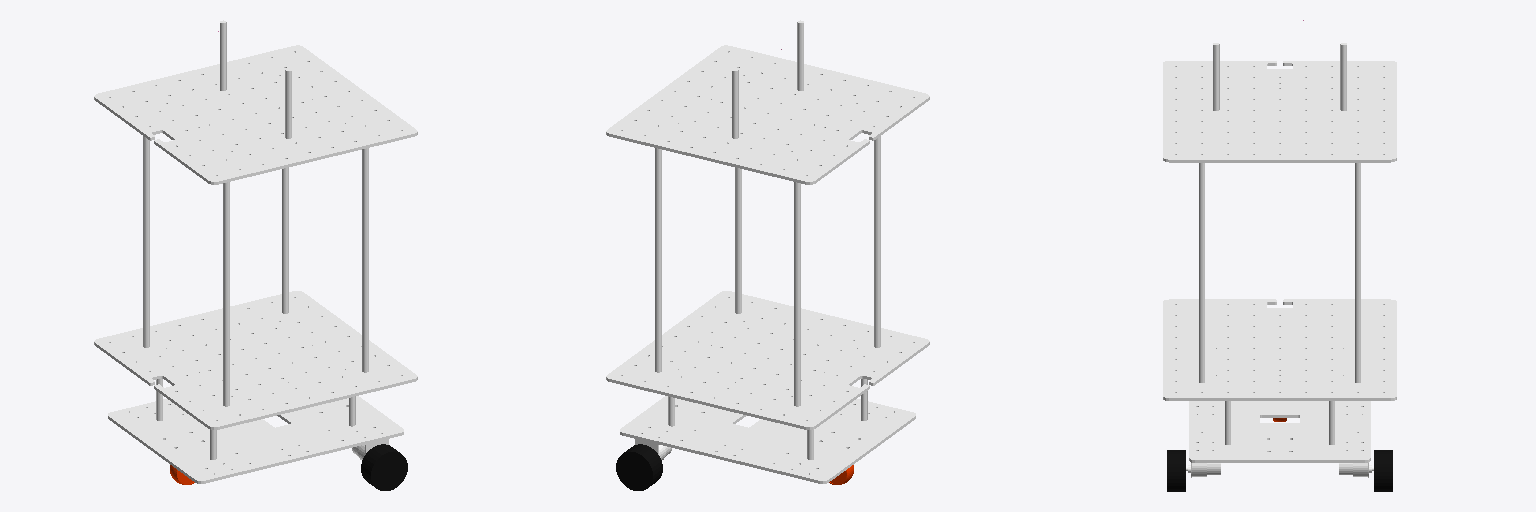
--- What the picture shows (computed from the rendered views, not written in the file) ---
The picture shows the robot from 3 angles, left to right: view 1: azimuth 30°, elevation 25°; view 2: azimuth 150°, elevation 25°; view 3: azimuth 270°, elevation 25°; orthographic projection.
Model kaqi with 24 links and 23 joints (4 continuous, 19 fixed), rooted at base_footprint, posed all joints at 0.
Links seen in each view (by area): view 1: plate1_1_link, plate1_0_link, base_link, right_wheel_link, standoff_40_1_link, standoff_40_3_link, standoff_40_0_link, standoff_40_2_link; view 2: plate1_1_link, plate1_0_link, base_link, left_wheel_link, standoff_40_0_link, standoff_40_2_link, standoff_40_1_link, standoff_40_3_link; view 3: plate1_1_link, plate1_0_link, base_link, standoff_40_2_link, standoff_40_3_link, left_wheel_link, right_wheel_link.
Boxes of the visible links, bbox=[...] form: plate1_1_link: bbox=[94, 45, 417, 184]; plate1_0_link: bbox=[94, 291, 417, 429]; base_link: bbox=[108, 396, 403, 483]; right_wheel_link: bbox=[361, 444, 407, 490]; standoff_40_1_link: bbox=[223, 182, 229, 406]; standoff_40_3_link: bbox=[362, 148, 368, 372]; standoff_40_0_link: bbox=[143, 136, 149, 347]; standoff_40_2_link: bbox=[282, 167, 288, 313]; plate1_1_link: bbox=[606, 45, 929, 184]; plate1_0_link: bbox=[606, 291, 929, 429]; base_link: bbox=[620, 396, 915, 483]; left_wheel_link: bbox=[616, 444, 662, 490]; standoff_40_0_link: bbox=[794, 182, 800, 406]; standoff_40_2_link: bbox=[655, 148, 661, 372]; standoff_40_1_link: bbox=[874, 136, 880, 347]; standoff_40_3_link: bbox=[735, 167, 741, 313]; plate1_1_link: bbox=[1163, 61, 1396, 162]; plate1_0_link: bbox=[1163, 299, 1396, 400]; base_link: bbox=[1186, 401, 1373, 477]; standoff_40_2_link: bbox=[1355, 163, 1360, 382]; standoff_40_3_link: bbox=[1199, 163, 1204, 382]; left_wheel_link: bbox=[1374, 450, 1392, 491]; right_wheel_link: bbox=[1167, 450, 1185, 491].
Size in the robot's own frame: 0.36 by 0.36 by 0.7145 metres.
6 mesh visuals loaded from 6 distinct referenced files (5 binary STL); not drawn: 1 (reference not matched to a file when rendering).

robot.urdf — kaqi:
<?xml version="1.0" ?>
<!-- =================================================================================== -->
<!-- |    This document was autogenerated by xacro from kaqi.urdf.xacro                | -->
<!-- |    EDITING THIS FILE BY HAND IS NOT RECOMMENDED                                 | -->
<!-- =================================================================================== -->
<robot name="kaqi" xmlns:controller="http://playerstage.sourceforge.net/gazebo/xmlschema/#controller" xmlns:interface="http://playerstage.sourceforge.net/gazebo/xmlschema/#interface" xmlns:sensor="http://playerstage.sourceforge.net/gazebo/xmlschema/#sensor" xmlns:xacro="http://ros.org/wiki/xacro">
  <!-- 0.016 -->
  <!-- 0.0 -->
  <material name="black">
    <color rgba="0.0 0.0 0.0 1.0"/>
  </material>
  <material name="blue">
    <color rgba="0.0 0.0 0.8 1.0"/>
  </material>
  <material name="green">
    <color rgba="0.0 0.8 0.0 1.0"/>
  </material>
  <material name="grey">
    <color rgba="0.2 0.2 0.2 1.0"/>
  </material>
  <material name="turquoise">
    <color rgba="0.0 0.8 0.8 1.0"/>
  </material>
  <material name="orange">
    <color rgba="1.0 0.423529411765 0.0392156862745 1.0"/>
  </material>
  <material name="brown">
    <color rgba="0.870588235294 0.811764705882 0.764705882353 1.0"/>
  </material>
  <material name="red">
    <color rgba="0.8 0.0 0.0 1.0"/>
  </material>
  <material name="white">
    <color rgba="1.0 1.0 1.0 1.0"/>
  </material>
  <!-- 0.016 -->
  <!-- 0.0 -->
  <gazebo>
    <plugin filename="libgazebo_ros_imu.so" name="imu_controller">
      <alwaysOn>true</alwaysOn>
      <updateRate>100</updateRate>
      <bodyName>imu_link</bodyName>
      <topicName>imu/data</topicName>
      <gaussianNoise>2.89e-08</gaussianNoise>
      <xyzOffset>0 0 0</xyzOffset>
      <rpyOffset>0 -180.0 0</rpyOffset>
      <serviceName>/default_imu</serviceName>
    </plugin>
  </gazebo>
  <gazebo reference="left_wheel_link">
    <mu1 value="100.0"/>
    <mu2 value="100.0"/>
    <kp value="1000000.0"/>
    <kd value="1.0"/>
    <maxVel value="100.0"/>
    <minDepth value="0.0"/>
    <material>Gazebo/Black</material>
  </gazebo>
  <gazebo reference="right_wheel_link">
    <mu1 value="100.0"/>
    <mu2 value="100.0"/>
    <kp value="1000000.0"/>
    <kd value="1.0"/>
    <maxVel value="100.0"/>
    <minDepth value="0.0"/>
    <material>Gazebo/Black</material>
  </gazebo>
  <gazebo reference="caster_rotate_link">
    <mu1>0.0</mu1>
    <mu2>0.0</mu2>
    <material>Gazebo/Grey</material>
  </gazebo>
  <gazebo reference="caster_wheel_link">
    <mu1>100.0</mu1>
    <mu2>100.0</mu2>
    <material>Gazebo/Orange</material>
  </gazebo>
  <gazebo reference="base_laser_link">
    <material>
      Gazebo/Orange
    </material>
  </gazebo>
  <gazebo>
    <plugin filename="libgazebo_kaqi_base_plugin.so" name="base_controller">
      <node_namespace/>
      <update_rate>100</update_rate>
      <publish_odom_tf>false</publish_odom_tf>
      <publish_wheel_tf_>true</publish_wheel_tf_>
      <publish_wheel_joint_state_>true</publish_wheel_joint_state_>
      <left_wheel_joint>left_wheel_joint</left_wheel_joint>
      <right_wheel_joint>right_wheel_joint</right_wheel_joint>
      <caster_rotate_joint>caster_rotate_joint</caster_rotate_joint>
      <caster_wheel_joint>caster_wheel_joint</caster_wheel_joint>
      <wheel_diameter>0.076</wheel_diameter>
      <wheel_separation>0.34</wheel_separation>
      <wheel_torque>20.0</wheel_torque>
      <wheel_acceleration>2.0</wheel_acceleration>
      <command_topic>/base_controller/command</command_topic>
      <odometry_topic>/odom</odometry_topic>
      <odom_frame>odom</odom_frame>
      <base_frame>base_footprint</base_frame>
    </plugin>
  </gazebo>
  <gazebo reference="head_kinect_link">
    <sensor name="head_kinect_sensor" type="depth">
      <always_on>true</always_on>
      <update_rate>20.0</update_rate>
      <camera>
        <horizontal_fov>0.994837673637</horizontal_fov>
        <image>
          <format>B8G8R8</format>
          <width>640</width>
          <height>480</height>
        </image>
        <clip>
          <near>0.05</near>
          <far>10</far>
        </clip>
      </camera>
      <plugin filename="libgazebo_ros_openni_kinect.so" name="head_kinect_controller">
        <alwaysOn>true</alwaysOn>
        <updateRate>20.0</updateRate>
        <robotNamespace>/</robotNamespace>
        <cameraName>head_kinect</cameraName>
        <imageTopicName>/head_kinect/rgb/image_raw</imageTopicName>
        <cameraInfoTopicName>/head_kinect/rgb/camera_info</cameraInfoTopicName>
        <depthImageTopicName>/head_kinect/depth/image_raw</depthImageTopicName>
        <depthImageCameraInfoTopicName>/head_kinect/depth/camera_info</depthImageCameraInfoTopicName>
        <pointCloudTopicName>/head_kinect/depth_registered/points</pointCloudTopicName>
        <frameName>head_kinect_optical_frame</frameName>
        <pointCloudCutoff>0.5</pointCloudCutoff>
        <pointCloudCutoffMax>6.0</pointCloudCutoffMax>
        <distortionK1>0.00000001</distortionK1>
        <distortionK2>0.00000001</distortionK2>
        <distortionK3>0.00000001</distortionK3>
        <distortionT1>0.00000001</distortionT1>
        <distortionT2>0.00000001</distortionT2>
        <CxPrime>0</CxPrime>
        <Cx>0</Cx>
        <Cy>0</Cy>
        <focalLength>0</focalLength>
        <hackBaseline>0</hackBaseline>
      </plugin>
    </sensor>
  </gazebo>
  <gazebo reference="base_laser_frame">
    <sensor name="base_laser_sensor" type="ray">
      <always_on>true</always_on>
      <update_rate>30</update_rate>
      <pose>0 0 0 0 0 0</pose>
      <visualize>false</visualize>
      <ray>
        <scan>
          <horizontal>
            <samples>1080</samples>
            <resolution>1</resolution>
            <min_angle>-2.35619449</min_angle>
            <max_angle>2.35619449</max_angle>
          </horizontal>
        </scan>
        <range>
          <min>0.08</min>
          <max>30.0</max>
          <resolution>0.01</resolution>
        </range>
      </ray>
      <plugin filename="libgazebo_ros_laser.so" name="gazebo_ros_base_laser_controller">
        <robotNamespace>/</robotNamespace>
        <gaussianNoise>0.005</gaussianNoise>
        <alwaysOn>true</alwaysOn>
        <updateRate>30</updateRate>
        <topicName>base_scan</topicName>
        <frameName>base_laser_frame</frameName>
        <hokuyoMinIntensity>101</hokuyoMinIntensity>
      </plugin>
    </sensor>
  </gazebo>
  <!-- 0.016 -->
  <!-- 0.0 -->
  <!-- len: cm -->
  <link name="base_footprint">
    </link>
  <joint name="base_footprint_joint" type="fixed">
    <origin rpy="0 0 0" xyz="0 0 0.068"/>
    <parent link="base_footprint"/>
    <child link="base_link"/>
  </joint>
  <link name="base_link">
    <inertial>
      <origin rpy="0 0 0" xyz="0 0 0"/>
      <mass value="0.59157"/>
      <inertia ixx="0.1" ixy="0" ixz="0" iyy="0.1" iyz="0" izz="0.1"/>
    </inertial>
    <visual>
      <origin rpy="1.57079632679 0 -1.57079632679" xyz="-0.13 0 0"/>
      <geometry>
        <mesh filename="package://kaqi_description/meshes/base_link.stl"/>
      </geometry>
      <material name="">
        <color rgba="1 1 1 0.5"/>
      </material>
    </visual>
    <collision>
      <origin rpy="0 0 0" xyz="-0.13 0 0.0025"/>
      <geometry>
        <box size=".32 .28 .005"/>
      </geometry>
    </collision>
  </link>
  <joint name="left_wheel_joint" type="continuous">
    <origin rpy="0 0 0" xyz="0 0.15923 -0.0359"/>
    <axis xyz="0 1 0"/>
    <parent link="base_link"/>
    <child link="left_wheel_link"/>
    <limit effort="60.5" velocity="100"/>
    <safety_controller k_velocity="10"/>
    <calibration rising="0"/>
    <dynamics damping="1.0" friction="0.0"/>
  </joint>
  <link name="left_wheel_link">
    <inertial>
      <origin rpy="0 0 0" xyz="0 0 0"/>
      <mass value="0.15556"/>
      <inertia ixx="0.001" ixy="0" ixz="0" iyy="0.001" iyz="0" izz="0.001"/>
    </inertial>
    <visual>
      <origin rpy="1.57079632679 0 0" xyz="0 0 0"/>
      <geometry>
        <cylinder length="0.030" radius="0.0321"/>
      </geometry>
      <material name="">
        <color rgba="0.1 0.1 0.1 1"/>
      </material>
    </visual>
    <collision>
      <origin rpy="1.57079632679 0 0" xyz="0 0 0"/>
      <geometry>
        <cylinder length="0.030" radius="0.0321"/>
      </geometry>
    </collision>
  </link>
  <joint name="right_wheel_joint" type="continuous">
    <origin rpy="0 0 0" xyz="0 -0.15923 -0.0359"/>
    <axis xyz="0 1 0"/>
    <parent link="base_link"/>
    <child link="right_wheel_link"/>
    <limit effort="60.5" velocity="100"/>
    <safety_controller k_velocity="10"/>
    <calibration rising="0"/>
    <dynamics damping="1.0" friction="0.0"/>
  </joint>
  <link name="right_wheel_link">
    <inertial>
      <origin rpy="0 0 0" xyz="0 0 0"/>
      <mass value="0.15556"/>
      <inertia ixx="0.001" ixy="0" ixz="0" iyy="0.001" iyz="0" izz="0.001"/>
    </inertial>
    <visual>
      <origin rpy="1.57079632679 0 0" xyz="0 0 0"/>
      <geometry>
        <cylinder length="0.030" radius="0.0321"/>
      </geometry>
      <material name="">
        <color rgba="0.1 0.1 0.1 1"/>
      </material>
    </visual>
    <collision>
      <origin rpy="1.57079632679 0 0" xyz="0 0 0"/>
      <geometry>
        <cylinder length="0.030" radius="0.0321"/>
      </geometry>
    </collision>
  </link>
  <!-- Caster -->
  <joint name="caster_base_joint" type="fixed">
    <origin rpy="0 0 0" xyz="-0.23 0 0.003"/>
    <parent link="base_link"/>
    <child link="caster_base_link"/>
  </joint>
  <link name="caster_base_link">
    <inertial>
      <origin rpy="0 0 0" xyz="0 0 0"/>
      <mass value="0.016939"/>
      <inertia ixx="0.001" ixy="0" ixz="0" iyy="0.001" iyz="0" izz="0.001"/>
    </inertial>
    <visual>
      <origin rpy="1.57079632679 0 0" xyz="0 0 -0.001"/>
      <geometry>
        <mesh filename="package://kaqi_description/meshes/caster_base.stl"/>
      </geometry>
      <material name="">
        <color rgba="1 1 1 1"/>
      </material>
    </visual>
    <collision>
      <origin rpy="0 0 0" xyz="0 0 0.003"/>
      <geometry>
        <box size=".055 .046 .006"/>
      </geometry>
    </collision>
  </link>
  <joint name="caster_rotate_joint" type="continuous">
    <origin rpy="0 0 0" xyz="0.0 0.0 -0.006"/>
    <axis xyz="0 0 1"/>
    <parent link="caster_base_link"/>
    <child link="caster_rotate_link"/>
  </joint>
  <link name="caster_rotate_link">
    <inertial>
      <origin rpy="0 0 0" xyz="0 0 0.015"/>
      <mass value="0.0043659"/>
      <inertia ixx="0.0001" ixy="0" ixz="0" iyy="0.0001" iyz="0" izz="0.0001"/>
    </inertial>
    <visual>
      <origin rpy="-1.57079632679 0 0" xyz="0 0 0"/>
      <geometry>
        <mesh filename="package://kaqi_description/meshes/caster_rotate.stl"/>
      </geometry>
      <material name="">
        <color rgba="0.3 0.3 0.3 1"/>
      </material>
    </visual>
    <!--
    <collision>
      <origin xyz="0 0 0" rpy="${-M_PI/2.0} 0 0" />
      <geometry>
        <mesh filename="package://kaqi_description/meshes/caster_rotate.stl" />
      </geometry>
    </collision>
    -->
  </link>
  <joint name="caster_wheel_joint" type="continuous">
    <origin rpy="0 0 0" xyz="-0.02 0.0 -0.04"/>
    <axis xyz="0 1 0"/>
    <parent link="caster_rotate_link"/>
    <child link="caster_wheel_link"/>
  </joint>
  <link name="caster_wheel_link">
    <inertial>
      <origin rpy="0 0 0" xyz="0 0 0"/>
      <mass value="0.037975"/>
      <inertia ixx="0.001" ixy="0" ixz="0" iyy="0.001" iyz="0" izz="0.001"/>
    </inertial>
    <visual>
      <origin rpy="1.57079632679 0 0" xyz="0 0 0"/>
      <geometry>
        <mesh filename="package://kaqi_description/meshes/caster_wheel.stl"/>
      </geometry>
      <material name="">
        <color rgba="1.0 0.27 0 1"/>
      </material>
    </visual>
    <collision>
      <origin rpy="1.57079632679 0 0" xyz="0 0 0"/>
      <geometry>
        <cylinder length="0.011" radius="0.025"/>
      </geometry>
    </collision>
  </link>
  <!-- Stacks -->
  <joint name="standoff_10_0_joint" type="fixed">
    <origin rpy="0 0 0" xyz="-0.01 -0.08 0.005"/>
    <parent link="base_link"/>
    <child link="standoff_10_0_link"/>
  </joint>
  <link name="standoff_10_0_link">
    <inertial>
      <mass value="0.01"/>
      <origin xyz="0 0 0"/>
      <inertia ixx="0.001" ixy="0.0" ixz="0.0" iyy="0.001" iyz="0.0" izz="0.001"/>
    </inertial>
    <visual>
      <origin rpy="0 0 0" xyz="0 0 0.05"/>
      <geometry>
        <cylinder length="0.1" radius="0.005"/>
      </geometry>
      <material name="">
        <color rgba="1 1 1 1"/>
      </material>
    </visual>
    <collision>
      <origin rpy="0 0 0" xyz="0 0 0.05"/>
      <geometry>
        <cylinder length="0.1" radius="0.005"/>
      </geometry>
    </collision>
  </link>
  <joint name="standoff_10_1_joint" type="fixed">
    <origin rpy="0 0 0" xyz="-0.01 0.08 0.005"/>
    <parent link="base_link"/>
    <child link="standoff_10_1_link"/>
  </joint>
  <link name="standoff_10_1_link">
    <inertial>
      <mass value="0.01"/>
      <origin xyz="0 0 0"/>
      <inertia ixx="0.001" ixy="0.0" ixz="0.0" iyy="0.001" iyz="0.0" izz="0.001"/>
    </inertial>
    <visual>
      <origin rpy="0 0 0" xyz="0 0 0.05"/>
      <geometry>
        <cylinder length="0.1" radius="0.005"/>
      </geometry>
      <material name="">
        <color rgba="1 1 1 1"/>
      </material>
    </visual>
    <collision>
      <origin rpy="0 0 0" xyz="0 0 0.05"/>
      <geometry>
        <cylinder length="0.1" radius="0.005"/>
      </geometry>
    </collision>
  </link>
  <joint name="standoff_10_2_joint" type="fixed">
    <origin rpy="0 0 0" xyz="-0.25 0.08 0.005"/>
    <parent link="base_link"/>
    <child link="standoff_10_2_link"/>
  </joint>
  <link name="standoff_10_2_link">
    <inertial>
      <mass value="0.01"/>
      <origin xyz="0 0 0"/>
      <inertia ixx="0.001" ixy="0.0" ixz="0.0" iyy="0.001" iyz="0.0" izz="0.001"/>
    </inertial>
    <visual>
      <origin rpy="0 0 0" xyz="0 0 0.05"/>
      <geometry>
        <cylinder length="0.1" radius="0.005"/>
      </geometry>
      <material name="">
        <color rgba="1 1 1 1"/>
      </material>
    </visual>
    <collision>
      <origin rpy="0 0 0" xyz="0 0 0.05"/>
      <geometry>
        <cylinder length="0.1" radius="0.005"/>
      </geometry>
    </collision>
  </link>
  <joint name="standoff_10_3_joint" type="fixed">
    <origin rpy="0 0 0" xyz="-0.25 -0.08 0.005"/>
    <parent link="base_link"/>
    <child link="standoff_10_3_link"/>
  </joint>
  <link name="standoff_10_3_link">
    <inertial>
      <mass value="0.01"/>
      <origin xyz="0 0 0"/>
      <inertia ixx="0.001" ixy="0.0" ixz="0.0" iyy="0.001" iyz="0.0" izz="0.001"/>
    </inertial>
    <visual>
      <origin rpy="0 0 0" xyz="0 0 0.05"/>
      <geometry>
        <cylinder length="0.1" radius="0.005"/>
      </geometry>
      <material name="">
        <color rgba="1 1 1 1"/>
      </material>
    </visual>
    <collision>
      <origin rpy="0 0 0" xyz="0 0 0.05"/>
      <geometry>
        <cylinder length="0.1" radius="0.005"/>
      </geometry>
    </collision>
  </link>
  <joint name="plate1_0_joint" type="fixed">
    <origin rpy="0 0 0" xyz="-0.13 0 0.105"/>
    <parent link="base_link"/>
    <child link="plate1_0_link"/>
  </joint>
  <link name="plate1_0_link">
    <inertial>
      <mass value="0.01"/>
      <origin xyz="0 0 0"/>
      <inertia ixx="0.001" ixy="0.0" ixz="0.0" iyy="0.001" iyz="0.0" izz="0.001"/>
    </inertial>
    <visual>
      <origin rpy="1.57079632679 0 -1.57079632679" xyz="0 0 0.0"/>
      <geometry>
        <mesh filename="package://kaqi_description/meshes/plate1.stl"/>
      </geometry>
      <material name="">
        <color rgba="1 1 1 0.5"/>
        <ambient>1 1 1 0.5</ambient>
        <diffuse>1 1 1 0.5</diffuse>
        <specular>0.1 0.1 0.1 128</specular>
        <emissive>0 0 0 0</emissive>
      </material>
    </visual>
    <collision>
      <origin rpy="0 0 0" xyz="0 0 0.0025"/>
      <geometry>
        <box size=".36 .36 .005"/>
      </geometry>
    </collision>
  </link>
  <joint name="standoff_40_0_joint" type="fixed">
    <origin rpy="0 0 0" xyz="-0.12 0.12 0.005"/>
    <parent link="plate1_0_link"/>
    <child link="standoff_40_0_link"/>
  </joint>
  <link name="standoff_40_0_link">
    <inertial>
      <mass value="0.01"/>
      <origin xyz="0 0 0"/>
      <inertia ixx="0.001" ixy="0.0" ixz="0.0" iyy="0.001" iyz="0.0" izz="0.001"/>
    </inertial>
    <visual>
      <origin rpy="0 0 0" xyz="0 0 0.2"/>
      <geometry>
        <cylinder length="0.4" radius="0.005"/>
      </geometry>
      <material name="">
        <color rgba="1 1 1 1"/>
      </material>
    </visual>
    <collision>
      <origin rpy="0 0 0" xyz="0 0 0.2"/>
      <geometry>
        <cylinder length="0.4" radius="0.005"/>
      </geometry>
    </collision>
  </link>
  <joint name="standoff_40_1_joint" type="fixed">
    <origin rpy="0 0 0" xyz="-0.12 -0.12 0.005"/>
    <parent link="plate1_0_link"/>
    <child link="standoff_40_1_link"/>
  </joint>
  <link name="standoff_40_1_link">
    <inertial>
      <mass value="0.01"/>
      <origin xyz="0 0 0"/>
      <inertia ixx="0.001" ixy="0.0" ixz="0.0" iyy="0.001" iyz="0.0" izz="0.001"/>
    </inertial>
    <visual>
      <origin rpy="0 0 0" xyz="0 0 0.2"/>
      <geometry>
        <cylinder length="0.4" radius="0.005"/>
      </geometry>
      <material name="">
        <color rgba="1 1 1 1"/>
      </material>
    </visual>
    <collision>
      <origin rpy="0 0 0" xyz="0 0 0.2"/>
      <geometry>
        <cylinder length="0.4" radius="0.005"/>
      </geometry>
    </collision>
  </link>
  <joint name="standoff_40_2_joint" type="fixed">
    <origin rpy="0 0 0" xyz="0.12 0.12 0.005"/>
    <parent link="plate1_0_link"/>
    <child link="standoff_40_2_link"/>
  </joint>
  <link name="standoff_40_2_link">
    <inertial>
      <mass value="0.01"/>
      <origin xyz="0 0 0"/>
      <inertia ixx="0.001" ixy="0.0" ixz="0.0" iyy="0.001" iyz="0.0" izz="0.001"/>
    </inertial>
    <visual>
      <origin rpy="0 0 0" xyz="0 0 0.2"/>
      <geometry>
        <cylinder length="0.4" radius="0.005"/>
      </geometry>
      <material name="">
        <color rgba="1 1 1 1"/>
      </material>
    </visual>
    <collision>
      <origin rpy="0 0 0" xyz="0 0 0.2"/>
      <geometry>
        <cylinder length="0.4" radius="0.005"/>
      </geometry>
    </collision>
  </link>
  <joint name="standoff_40_3_joint" type="fixed">
    <origin rpy="0 0 0" xyz="0.12 -0.12 0.005"/>
    <parent link="plate1_0_link"/>
    <child link="standoff_40_3_link"/>
  </joint>
  <link name="standoff_40_3_link">
    <inertial>
      <mass value="0.01"/>
      <origin xyz="0 0 0"/>
      <inertia ixx="0.001" ixy="0.0" ixz="0.0" iyy="0.001" iyz="0.0" izz="0.001"/>
    </inertial>
    <visual>
      <origin rpy="0 0 0" xyz="0 0 0.2"/>
      <geometry>
        <cylinder length="0.4" radius="0.005"/>
      </geometry>
      <material name="">
        <color rgba="1 1 1 1"/>
      </material>
    </visual>
    <collision>
      <origin rpy="0 0 0" xyz="0 0 0.2"/>
      <geometry>
        <cylinder length="0.4" radius="0.005"/>
      </geometry>
    </collision>
  </link>
  <joint name="plate1_1_joint" type="fixed">
    <origin rpy="0 0 0" xyz="0 0 0.405"/>
    <parent link="plate1_0_link"/>
    <child link="plate1_1_link"/>
  </joint>
  <link name="plate1_1_link">
    <inertial>
      <mass value="0.01"/>
      <origin xyz="0 0 0"/>
      <inertia ixx="0.001" ixy="0.0" ixz="0.0" iyy="0.001" iyz="0.0" izz="0.001"/>
    </inertial>
    <visual>
      <origin rpy="1.57079632679 0 -1.57079632679" xyz="0 0 0.0"/>
      <geometry>
        <mesh filename="package://kaqi_description/meshes/plate1.stl"/>
      </geometry>
      <material name="">
        <color rgba="1 1 1 0.5"/>
        <ambient>1 1 1 0.5</ambient>
        <diffuse>1 1 1 0.5</diffuse>
        <specular>0.1 0.1 0.1 128</specular>
        <emissive>0 0 0 0</emissive>
      </material>
    </visual>
    <collision>
      <origin rpy="0 0 0" xyz="0 0 0.0025"/>
      <geometry>
        <box size=".36 .36 .005"/>
      </geometry>
    </collision>
  </link>
  <joint name="standoff_kinect_0_joint" type="fixed">
    <origin rpy="0 0 0" xyz="0 0.098 0.005"/>
    <parent link="plate1_1_link"/>
    <child link="standoff_kinect_0_link"/>
  </joint>
  <link name="standoff_kinect_0_link">
    <inertial>
      <mass value="0.001"/>
      <origin xyz="0 0 0"/>
      <inertia ixx="0.0001" ixy="0.0" ixz="0.0" iyy="0.0001" iyz="0.0" izz="0.0001"/>
    </inertial>
    <visual>
      <origin rpy="0 0 0" xyz="0 0 0.056"/>
      <geometry>
        <cylinder length="0.112" radius="0.005"/>
      </geometry>
      <material name="">
        <color rgba="1 1 1 1"/>
      </material>
    </visual>
    <collision>
      <origin rpy="0 0 0" xyz="0 0 0.056"/>
      <geometry>
        <cylinder length="0.112" radius="0.005"/>
      </geometry>
    </collision>
  </link>
  <joint name="standoff_kinect_1_joint" type="fixed">
    <origin rpy="0 0 0" xyz="0 -0.098 0.005"/>
    <parent link="plate1_1_link"/>
    <child link="standoff_kinect_1_link"/>
  </joint>
  <link name="standoff_kinect_1_link">
    <inertial>
      <mass value="0.001"/>
      <origin xyz="0 0 0"/>
      <inertia ixx="0.0001" ixy="0.0" ixz="0.0" iyy="0.0001" iyz="0.0" izz="0.0001"/>
    </inertial>
    <visual>
      <origin rpy="0 0 0" xyz="0 0 0.056"/>
      <geometry>
        <cylinder length="0.112" radius="0.005"/>
      </geometry>
      <material name="">
        <color rgba="1 1 1 1"/>
      </material>
    </visual>
    <collision>
      <origin rpy="0 0 0" xyz="0 0 0.056"/>
      <geometry>
        <cylinder length="0.112" radius="0.005"/>
      </geometry>
    </collision>
  </link>
  <!-- Sensors -->
  <!-- Gyro -->
  <joint name="gyro_joint" type="fixed">
    <axis xyz="0 1 0"/>
    <origin rpy="0 0 0" xyz="0 0 0.02"/>
    <parent link="base_link"/>
    <child link="gyro_link"/>
  </joint>
  <link name="gyro_link">
    <inertial>
      <mass value="0.001"/>
      <origin rpy="0 0 0" xyz="0 0 0"/>
      <inertia ixx="0.0001" ixy="0" ixz="0" iyy="0.000001" iyz="0" izz="0.0001"/>
    </inertial>
  </link>
  <!-- IMU -->
  <joint name="imu_joint" type="fixed">
    <axis xyz="0 1 0"/>
    <origin rpy="0 3.14159265359 0" xyz="0 0 0.07"/>
    <parent link="base_link"/>
    <child link="imu_link"/>
  </joint>
  <link name="imu_link">
    <inertial>
      <mass value="0.001"/>
      <origin rpy="0 0 0" xyz="0 0 0"/>
      <inertia ixx="0.0001" ixy="0" ixz="0" iyy="0.000001" iyz="0" izz="0.0001"/>
    </inertial>
  </link>
  <!-- kinect -->
  <joint name="head_kinect_joint" type="fixed">
    <origin rpy="0 0 0" xyz="-0.014 0.036 0.136"/>
    <parent link="plate1_1_link"/>
    <child link="head_kinect_link"/>
  </joint>
  <link name="head_kinect_link">
    <inertial>
      <mass value="0.1"/>
      <origin xyz="0 0 0"/>
      <inertia ixx="0.01" ixy="0" ixz="0" iyy="0.01" iyz="0" izz="0.01"/>
    </inertial>
    <visual>
      <origin rpy="0 0 0" xyz="0.034 -0.036 0"/>
      <geometry>
        <mesh filename="package://kaqi_description/meshes/kinect.dae" scale="0.001 0.001 0.001"/>
      </geometry>
    </visual>
    <!--
      <collision>
        <origin xyz="${-cam_px+0.02} ${-cam_py} 0" rpy="0 0 0" />
        <geometry>
          <mesh filename="package://kaqi_description/meshes/kinect.dae" scale="0.001 0.001 0.001"/>
        </geometry>
      </collision>
    -->
  </link>
  <joint name="head_kinect_optical_joint" type="fixed">
    <origin rpy="0 0 0" xyz="-0.03 0 0"/>
    <parent link="head_kinect_link"/>
    <child link="head_kinect_optical_link"/>
  </joint>
  <link name="head_kinect_optical_link">
    <inertial>
      <mass value="0.1"/>
      <origin rpy="0 0 0" xyz="0 0 0"/>
      <inertia ixx="0.01" ixy="0.0" ixz="0.0" iyy="0.01" iyz="0.0" izz="0.01"/>
    </inertial>
    <visual>
      <origin rpy="0 0 0" xyz="0.0 0.0 0"/>
      <geometry>
        <sphere radius="0.0005"/>
      </geometry>
    </visual>
  </link>
  <joint name="head_kinect_optical_frame_joint" type="fixed">
    <origin rpy="-1.57079632679 0 -1.57079632679" xyz="0 0 0"/>
    <parent link="head_kinect_optical_link"/>
    <child link="head_kinect_optical_frame"/>
  </joint>
  <link name="head_kinect_optical_frame"/>
  <!-- UTM30LX laser range finder -->
  <!--
    <joint name="base_laser_joint" type="fixed">
      <origin xyz="${laser_px} ${laser_py} ${laser_pz}" rpy="${laser_ox} ${laser_oy} ${laser_oz}" />
      <parent link="base_link"/>
      <child link="base_laser_link" />
    </joint>

    <link name="base_laser_link">
      <inertial>
        <mass value="0.1" />
        <origin xyz="0 0 0" />
        <inertia  ixx="0.01" ixy="0" ixz="0"
                  iyy="0.01" iyz="0" izz="0.01" />
      </inertial>
      <visual>
        <origin xyz="0 0 0" rpy="${M_PI/2.0} 0 ${M_PI/2.0}"/>
        <geometry>
          <mesh filename="package://kaqi_description/meshes/hokuyo_utm30lx.stl" scale="0.001 0.001 0.001"/>
        </geometry>
        <material name="hokuyo_color">
          <color rgba="0.4 0.2 0.2 1.0"/>
        </material>
      </visual>
      <collision>
        <origin xyz="0 0 0.0435" rpy="0 0 0" />
        <geometry>
          <box size=".06 .06 .087"/>
        </geometry>
      </collision>
    </link>

    <joint name="base_laser_frame_joint" type="fixed">
      <origin xyz="0 0 0.055" rpy="0 0 0" />
      <parent link="base_laser_link"/>
      <child link="base_laser_frame" />
    </joint>

    <link name="base_laser_frame">
      <inertial>
        <mass value="0.1" />
        <origin xyz="0 0 0" />
        <inertia  ixx="0.01" ixy="0" ixz="0"
                  iyy="0.01" iyz="0" izz="0.01" />
      </inertial>
    </link>

-->
</robot>
